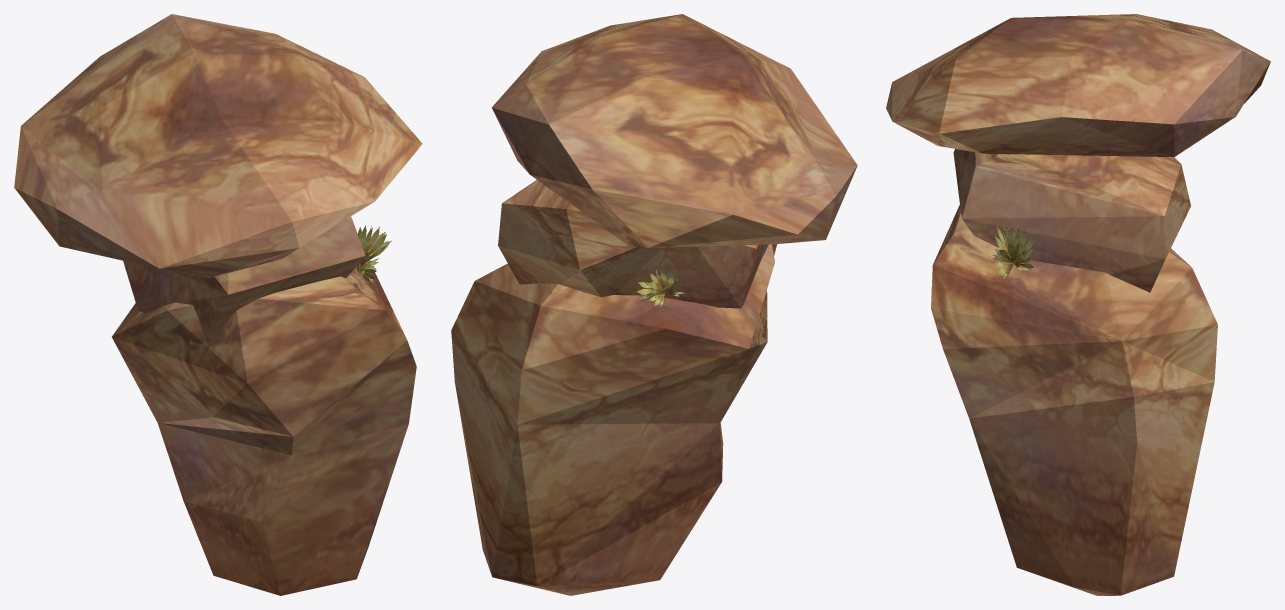
File: C2SNROCKFEAT2H.obj
3 views of the same model, side by side, from view 1: azimuth 30°, elevation 25°; view 2: azimuth 150°, elevation 25°; view 3: azimuth 270°, elevation 25° (orthographic). The views are drawn at different scales.
Parts seen in each view (by area): view 1: Node 0; view 2: Node 0; view 3: Node 0.
Boxes of the visible parts, x1=… form: Node 0: x1=14, y1=14, x2=422, y2=595; Node 0: x1=451, y1=14, x2=857, y2=595; Node 0: x1=886, y1=14, x2=1270, y2=595.
Bounding box in the file's own units: 16.79 × 24.73 × 16.21.
1 material, 1 textured.
